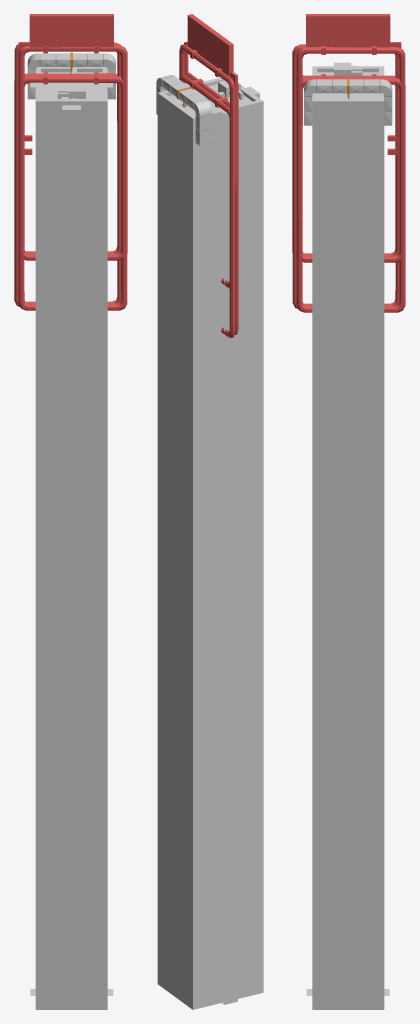
The model's file is Platform.fbx.
3 views of the same model, side by side, from view 1: azimuth 90°, elevation 25°; view 2: azimuth 210°, elevation 25°; view 3: azimuth 270°, elevation 25° (orthographic).
Parts seen in each view (by area): view 1: Platform_2, Platform_3, Platform_0, Obstacle_0, Obstacle_2, Obstacle_1, Envirovment_1, Envirovment_0, Envirovment_2; view 2: Platform_3, Platform_2, Platform_0, Platform_1, Obstacle_1, Obstacle_2, Obstacle_0, Envirovment_1; view 3: Platform_2, Platform_3, Platform_0, Obstacle_1, Obstacle_0, Obstacle_2, Envirovment_1, Envirovment_2.
Part boxes in pixels (box(x1,y1,x2,y2)): Platform_2: box(35, 67, 107, 1009); Platform_3: box(35, 67, 106, 1009); Platform_0: box(35, 66, 107, 261); Obstacle_0: box(14, 42, 127, 260); Obstacle_2: box(18, 14, 113, 154); Obstacle_1: box(14, 72, 127, 310); Envirovment_1: box(27, 52, 115, 99); Envirovment_0: box(62, 105, 80, 137); Envirovment_2: box(57, 84, 85, 98); Platform_3: box(157, 85, 263, 1009); Platform_2: box(157, 86, 260, 1009); Platform_0: box(157, 77, 263, 275); Platform_1: box(185, 83, 237, 1004); Obstacle_1: box(180, 72, 238, 337); Obstacle_2: box(187, 14, 237, 185); Obstacle_0: box(179, 42, 238, 288); Envirovment_1: box(156, 75, 212, 145); Platform_2: box(312, 67, 384, 1009); Platform_3: box(312, 66, 384, 1009); Platform_0: box(312, 66, 384, 261); Obstacle_1: box(292, 74, 405, 312); Obstacle_0: box(292, 44, 405, 262); Obstacle_2: box(306, 14, 401, 154); Envirovment_1: box(304, 78, 392, 125); Envirovment_2: box(334, 62, 362, 75).
Size of the model in its own units: 567 by 6479 by 680.
